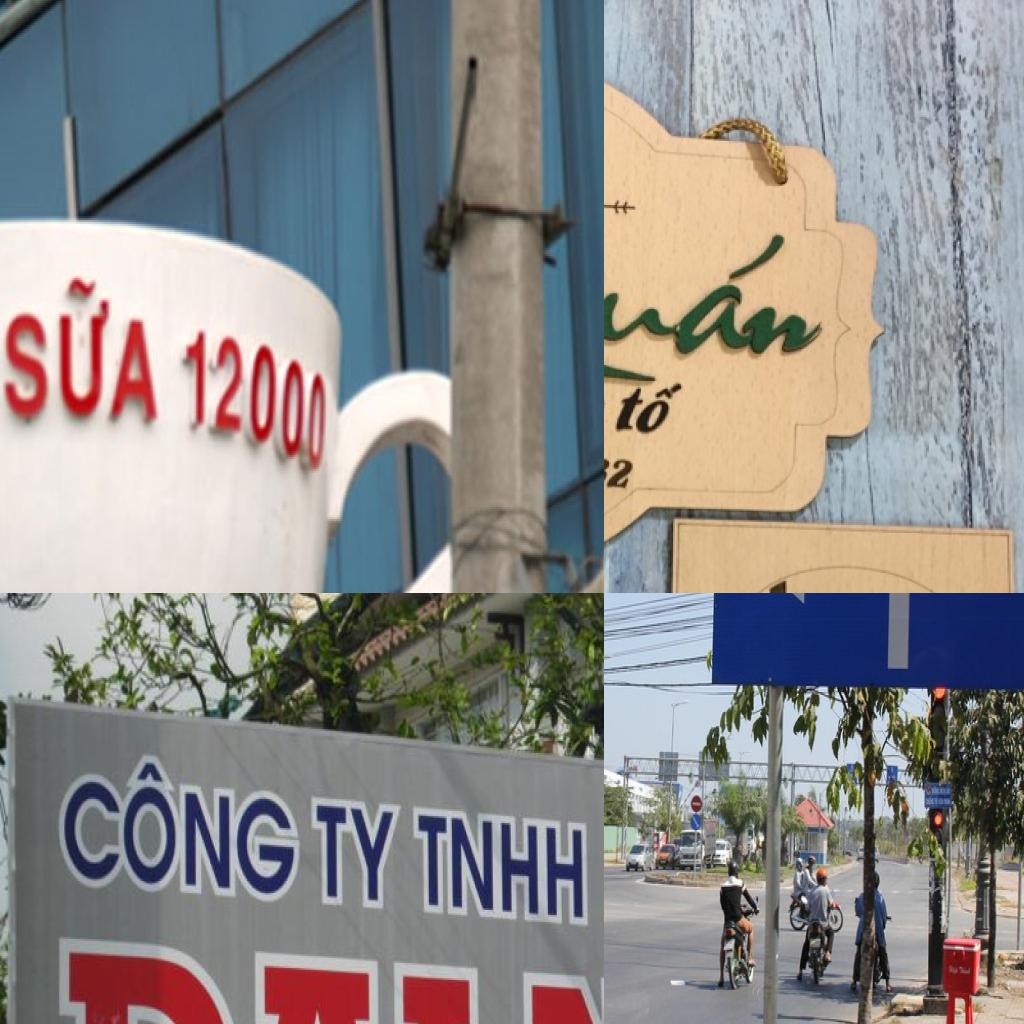text: (604, 212, 833, 403), (56, 750, 304, 906), (55, 935, 484, 1024), (175, 308, 330, 477), (0, 269, 163, 425), (412, 810, 590, 926), (310, 798, 400, 914), (609, 381, 692, 442)
